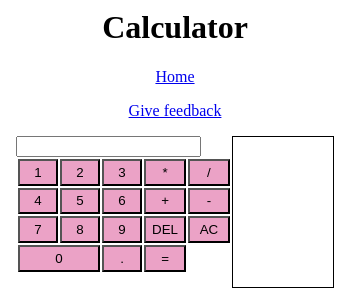
Calculator gives correct results › Writes '3/3' and gets 1 as a result
The width and height of the screenshot is (351, 305).
What coordinates should you click on to do the following:
click the button "3"
I would click on:
 (122, 173)
Its box is x1=102 y1=159 x2=142 y2=186.
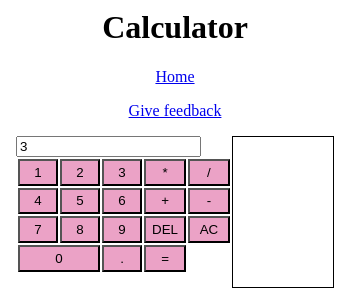
What coordinates should you click on to do the following:
click the button "/"
I would click on:
 (209, 173)
Its box is x1=188 y1=159 x2=230 y2=186.
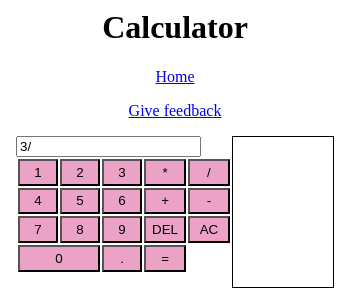
What coordinates should you click on to do the following:
click the button "3"
I would click on:
 (122, 173)
Its box is x1=102 y1=159 x2=142 y2=186.
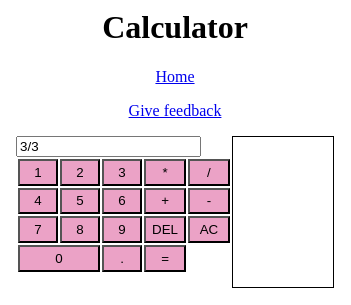
What coordinates should you click on to do the following:
click the button "="
I would click on:
 (165, 259)
Its box is x1=144 y1=245 x2=186 y2=272.
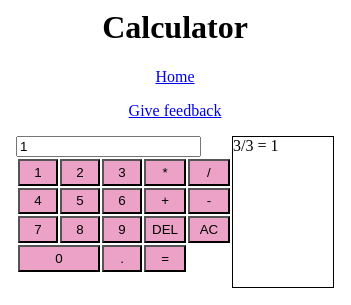
Expected: the field holds "1", x1=16 y1=136 x2=201 y2=157
